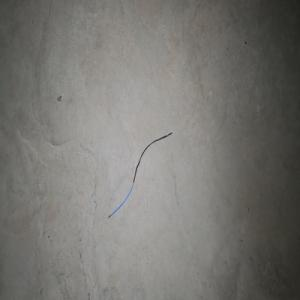Wire: (108, 131, 172, 218)
